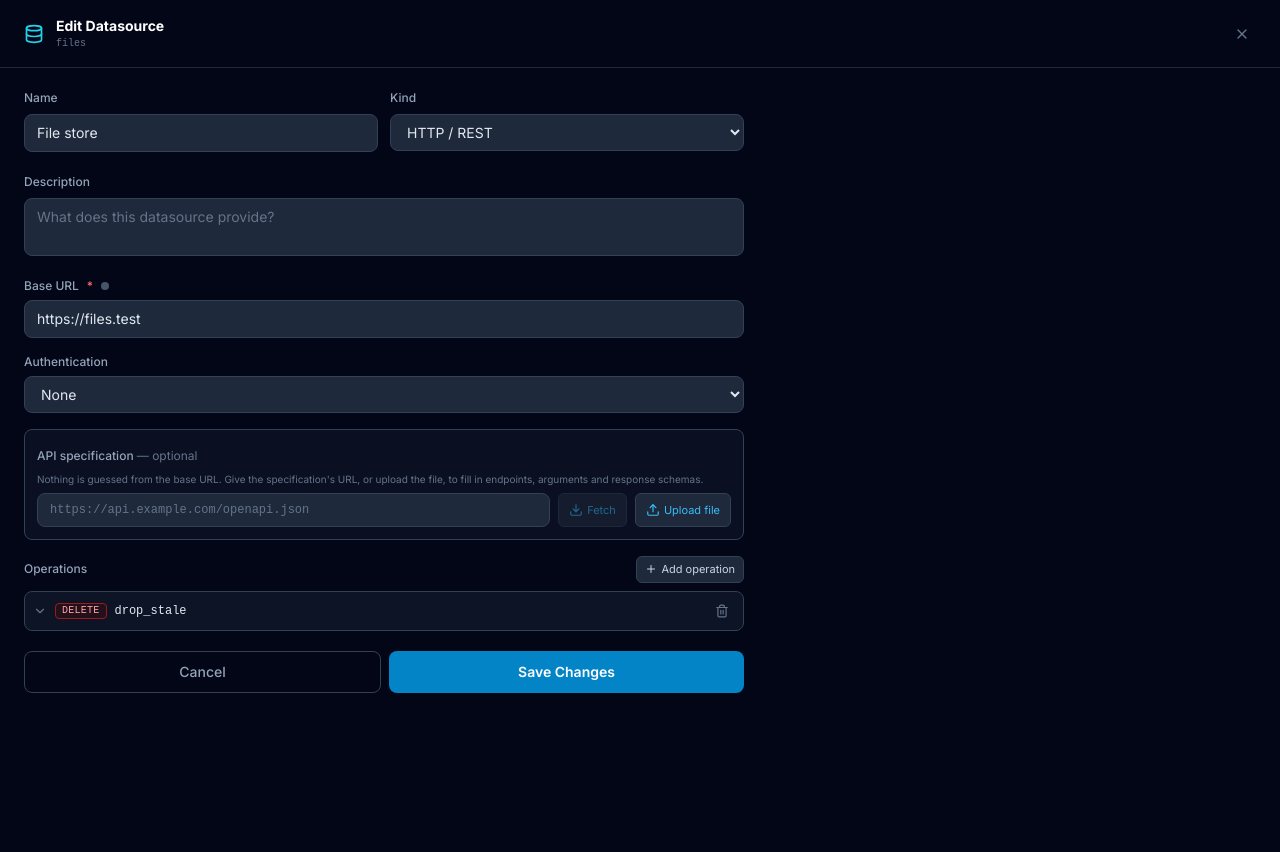
Test case: Try run on a destructive operation › a non-destructive run never asks
The width and height of the screenshot is (1280, 852).
Click the text "drop_stale".
click(150, 610)  # box [114, 602, 186, 618]
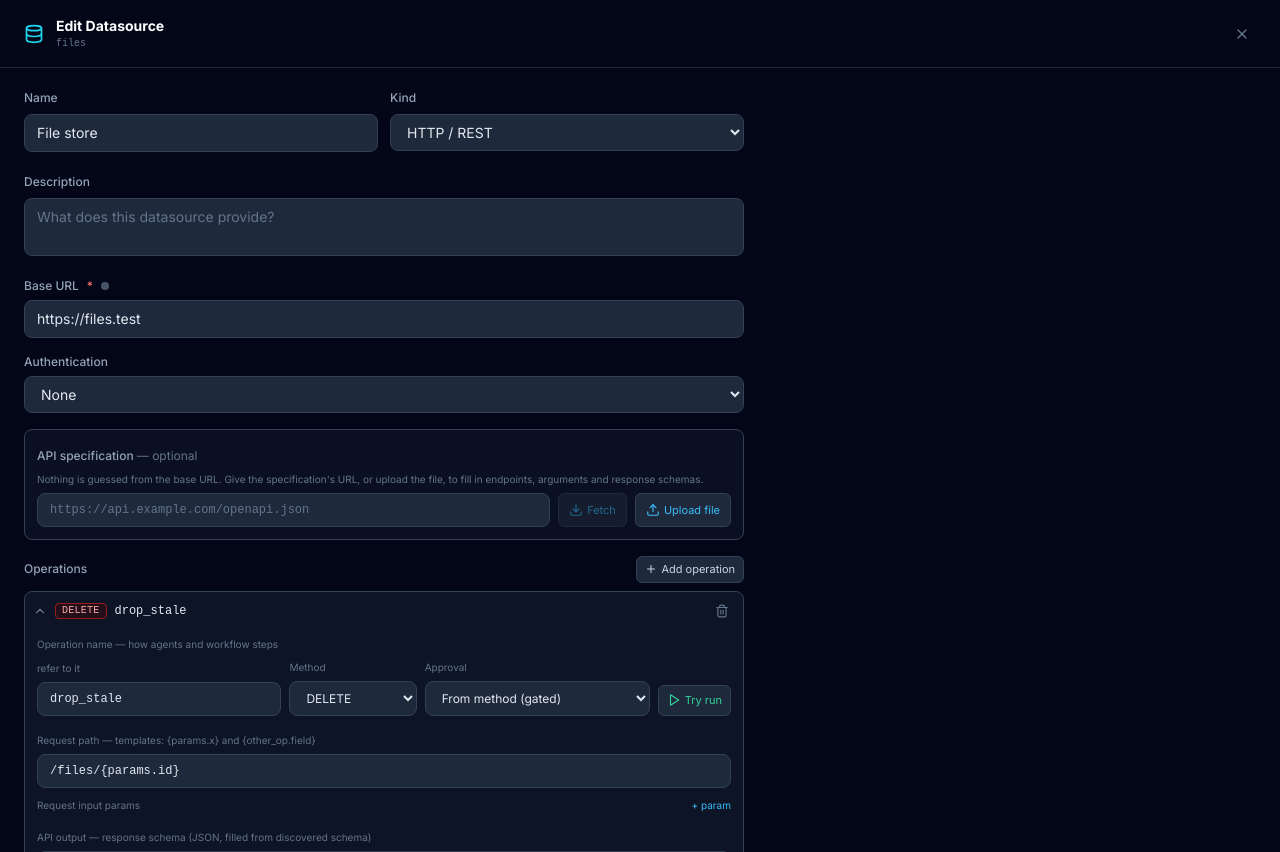
Click the button "Try run".
click(694, 700)  # box [658, 685, 731, 716]
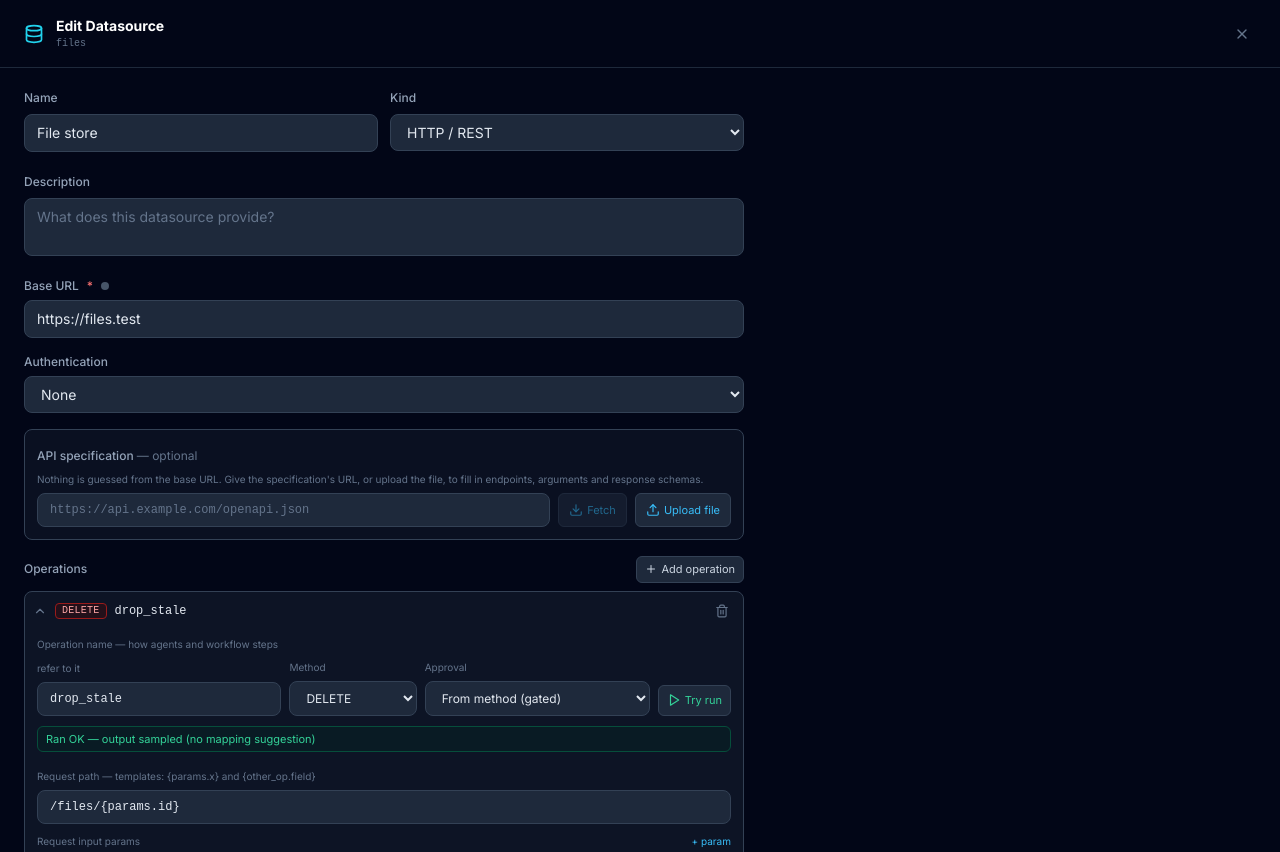
expect the text "Ran OK — output sampled (no mapping suggestion)" is shown: met, box [37, 726, 731, 752]
